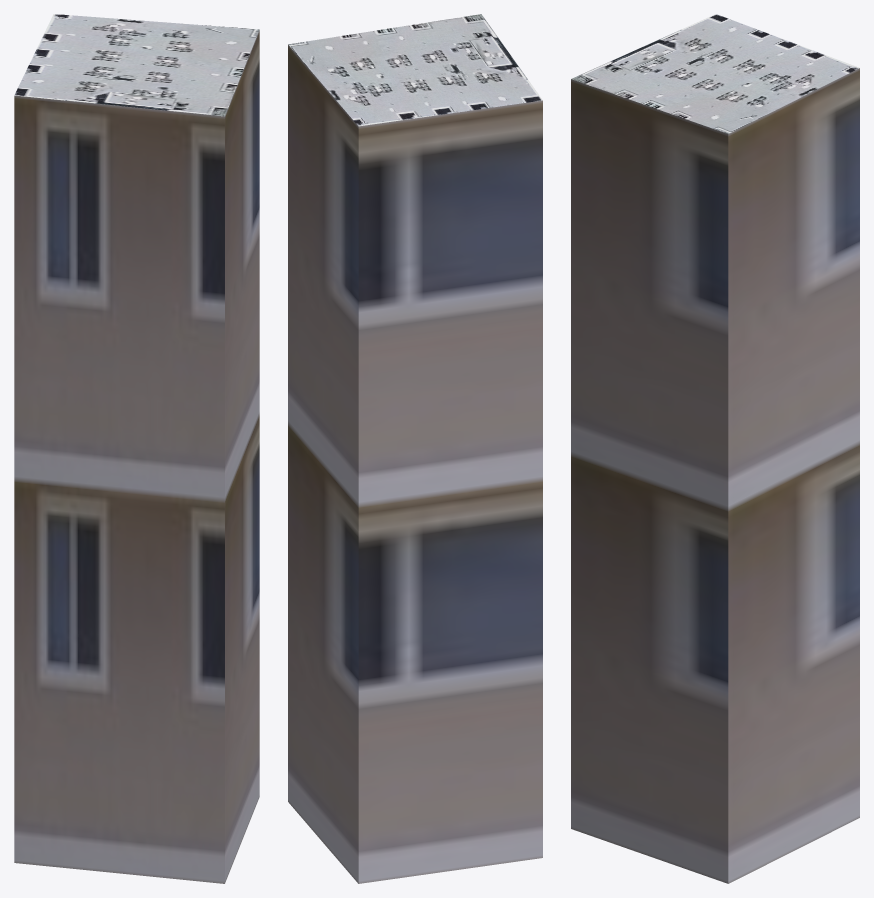
The model's file is ResTex__2277.fbx.
The picture shows the model from 3 angles, left to right: view 1: azimuth 30°, elevation 25°; view 2: azimuth 150°, elevation 25°; view 3: azimuth 270°, elevation 25°; orthographic projection. The views are drawn at different scales.
Parts seen in each view (by area): view 1: CityEngineMaterial_21_m, CityEngineMaterial_2_m; view 2: CityEngineMaterial_21_m, CityEngineMaterial_2_m; view 3: CityEngineMaterial_21_m, CityEngineMaterial_2_m.
Part boxes in pixels (bbox=[...]): CityEngineMaterial_21_m: bbox=[14, 30, 259, 883]; CityEngineMaterial_2_m: bbox=[14, 14, 259, 116]; CityEngineMaterial_21_m: bbox=[288, 44, 542, 883]; CityEngineMaterial_2_m: bbox=[288, 14, 542, 126]; CityEngineMaterial_21_m: bbox=[571, 68, 859, 883]; CityEngineMaterial_2_m: bbox=[571, 14, 859, 133].
Bounding box in the file's own units: 2.06 × 6 × 2.1.
2 materials, 2 textured.
